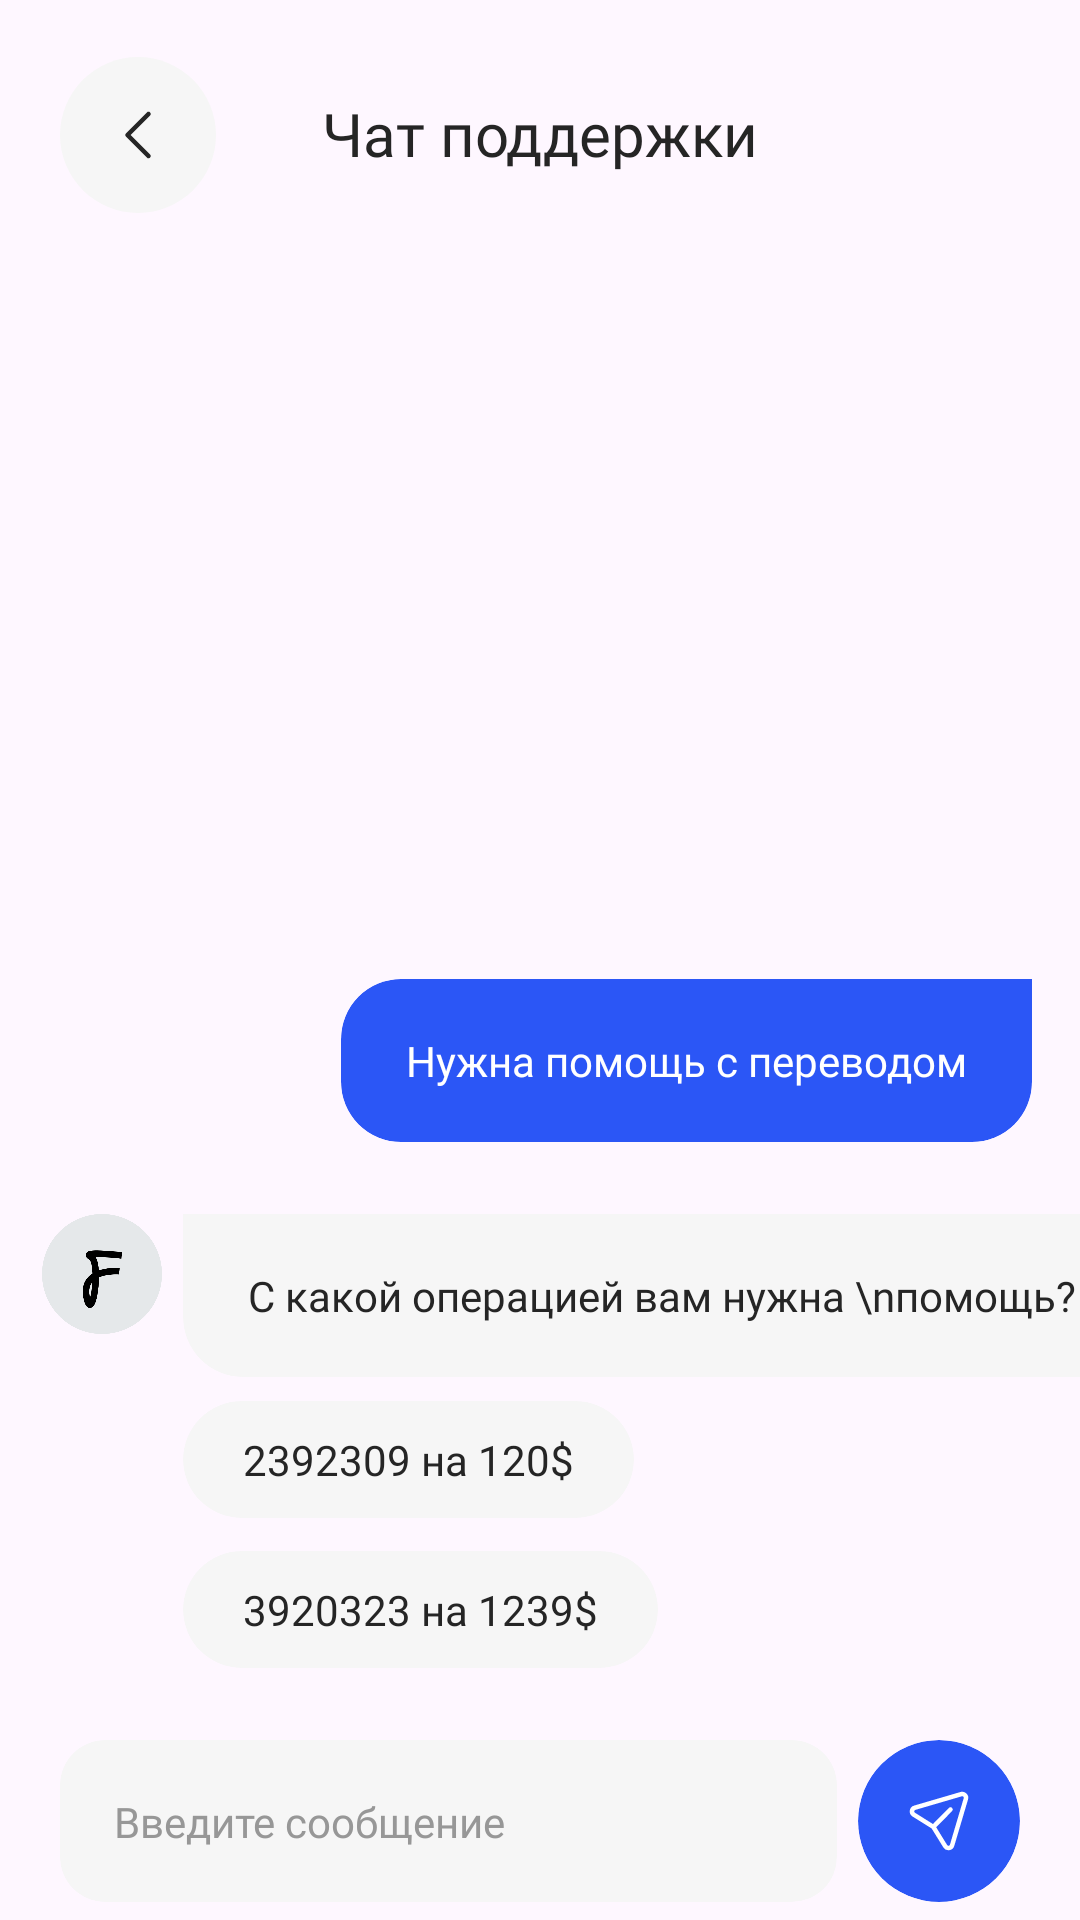

Icons on this 1080 × 1920 Android screen, each with its box as [x1, y1, x2, y2]:
send: [909, 1791, 969, 1851]
